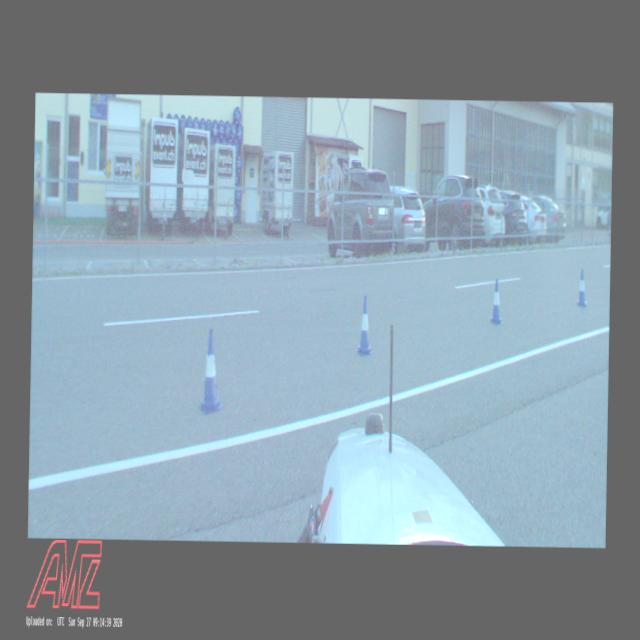blue_cone: (198, 328, 224, 412), (356, 296, 374, 354), (489, 278, 503, 324), (576, 269, 587, 306)
